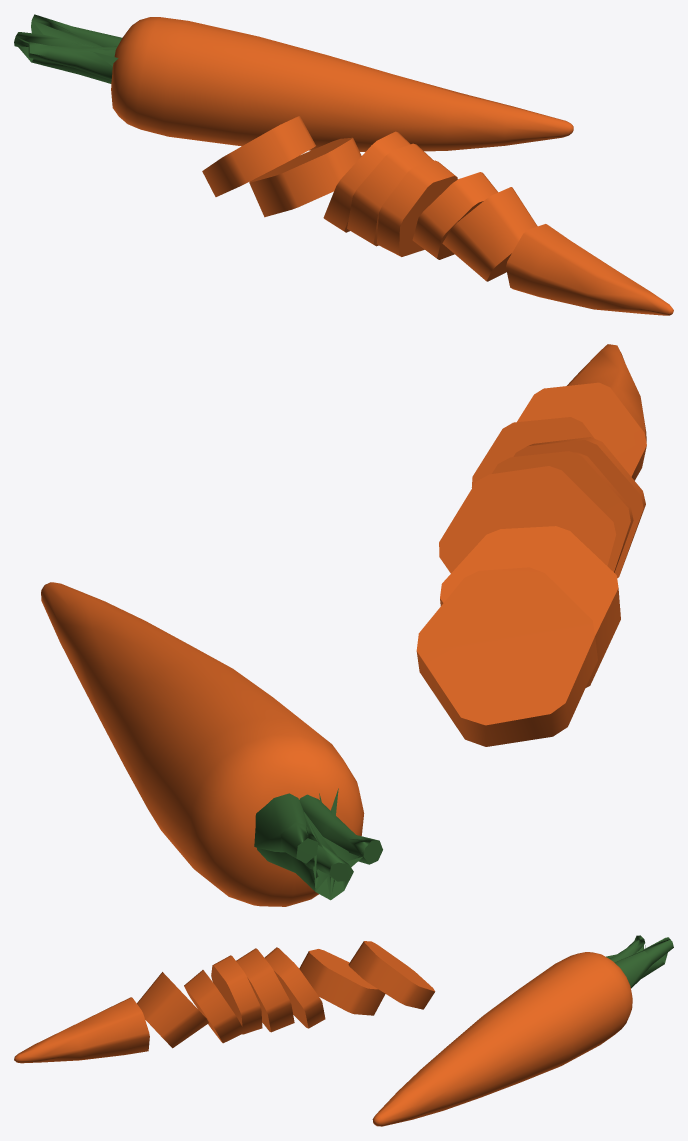
The model's file is Carrot.fbx.
The picture shows the model from 3 angles, top to bottom: view 1: azimuth 30°, elevation 25°; view 2: azimuth 150°, elevation 25°; view 3: azimuth 270°, elevation 25°; orthographic projection. The views are drawn at different scales.
Visible parts, largest first — view 1: SM_CarrotANoLeaves_Carrot_0, SM_CarrotSlicedAssembled_Carrot_0; view 2: SM_CarrotSlicedAssembled_Carrot_0, SM_CarrotANoLeaves_Carrot_0; view 3: SM_CarrotSlicedAssembled_Carrot_0, SM_CarrotANoLeaves_Carrot_0.
Part boxes in pixels (x1,y1,x2,y2): SM_CarrotANoLeaves_Carrot_0: [14, 14, 573, 151]; SM_CarrotSlicedAssembled_Carrot_0: [202, 116, 673, 315]; SM_CarrotSlicedAssembled_Carrot_0: [416, 344, 646, 746]; SM_CarrotANoLeaves_Carrot_0: [41, 582, 382, 906]; SM_CarrotSlicedAssembled_Carrot_0: [14, 941, 435, 1063]; SM_CarrotANoLeaves_Carrot_0: [372, 935, 673, 1126].
Size of the model in its own units: 17.84 by 5.95 by 34.15.
